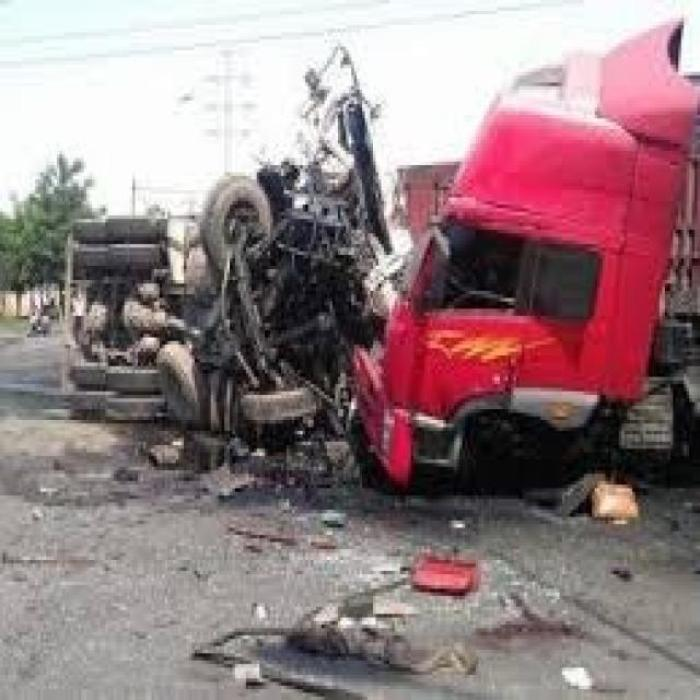Accident: (83, 152, 556, 462)
